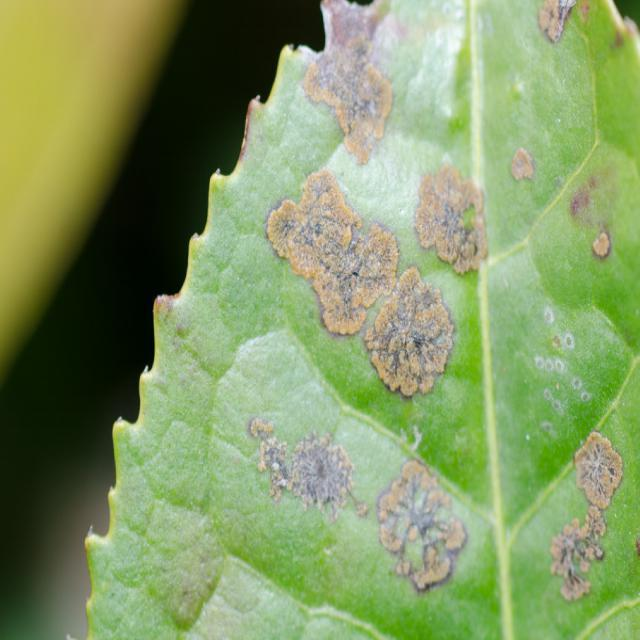Tea red rust: (269, 11, 628, 597)
